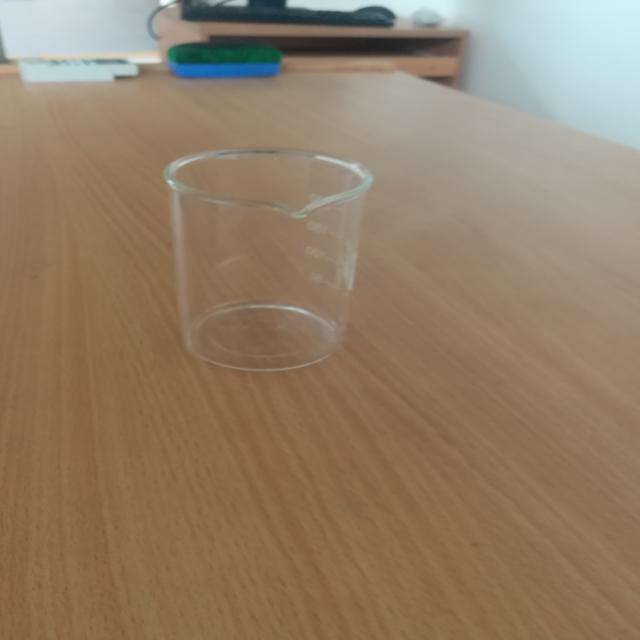Beaker: (125, 113, 420, 389)
